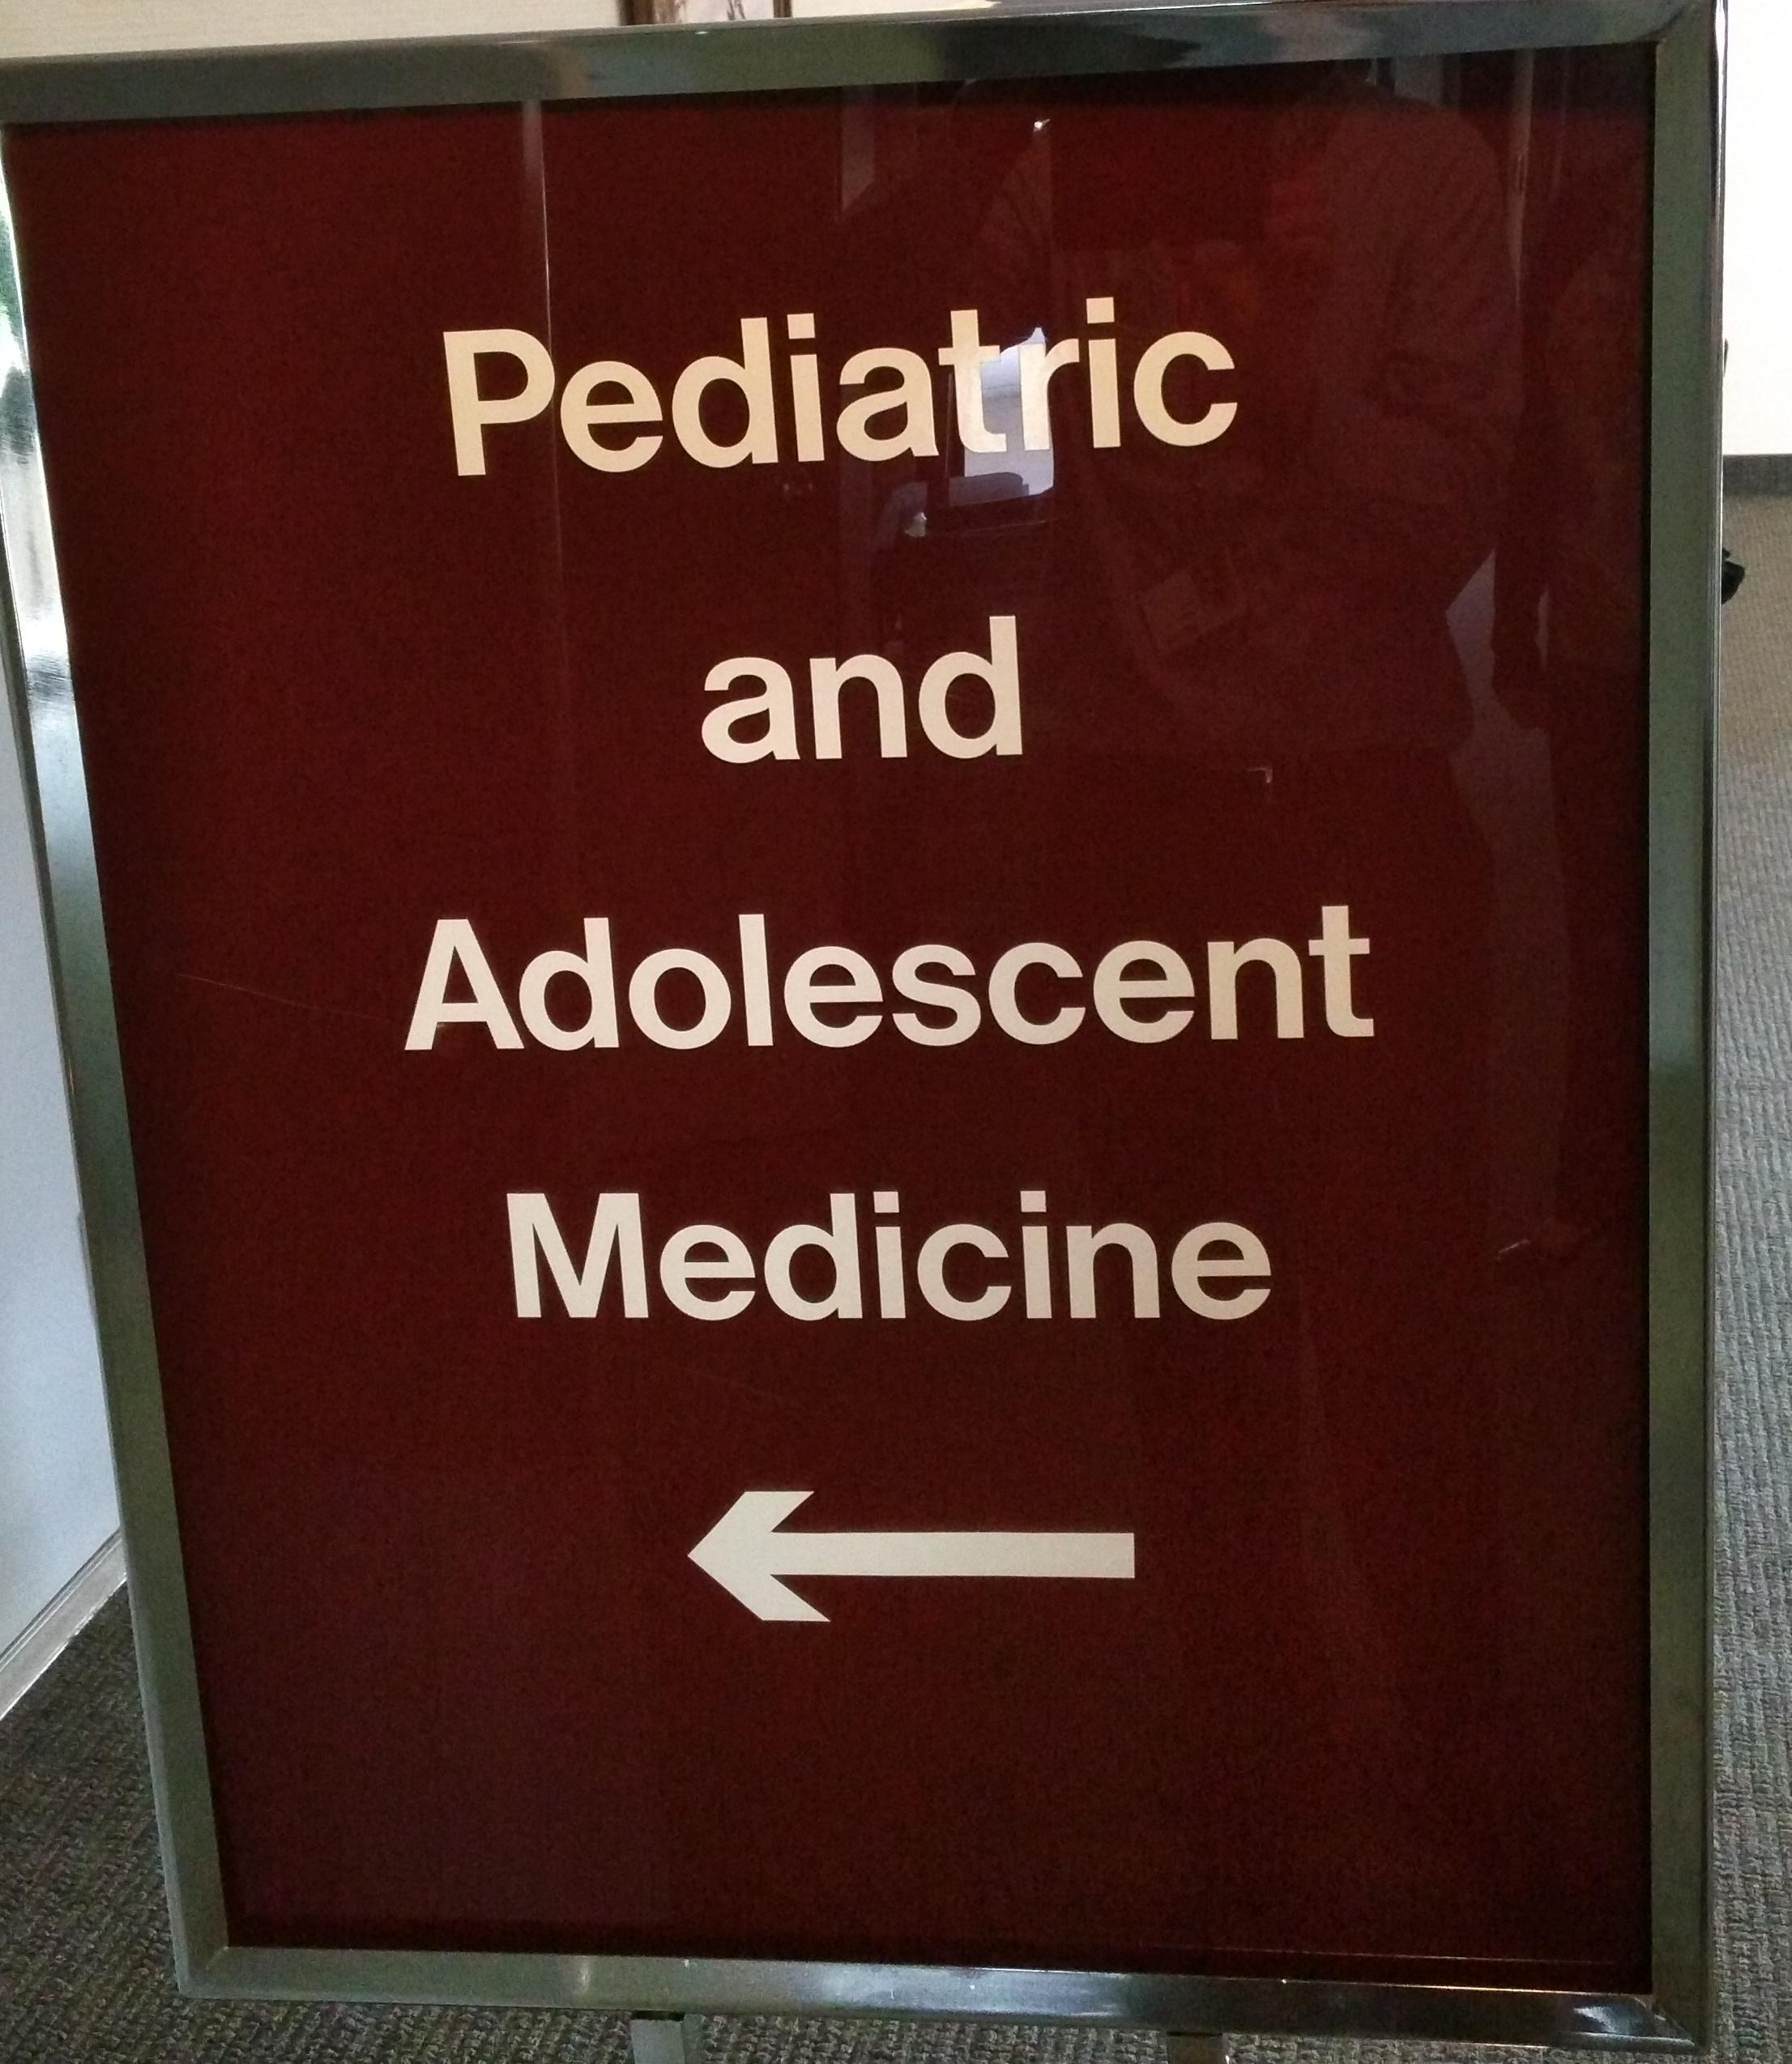sign: (5, 5, 1731, 2052)
